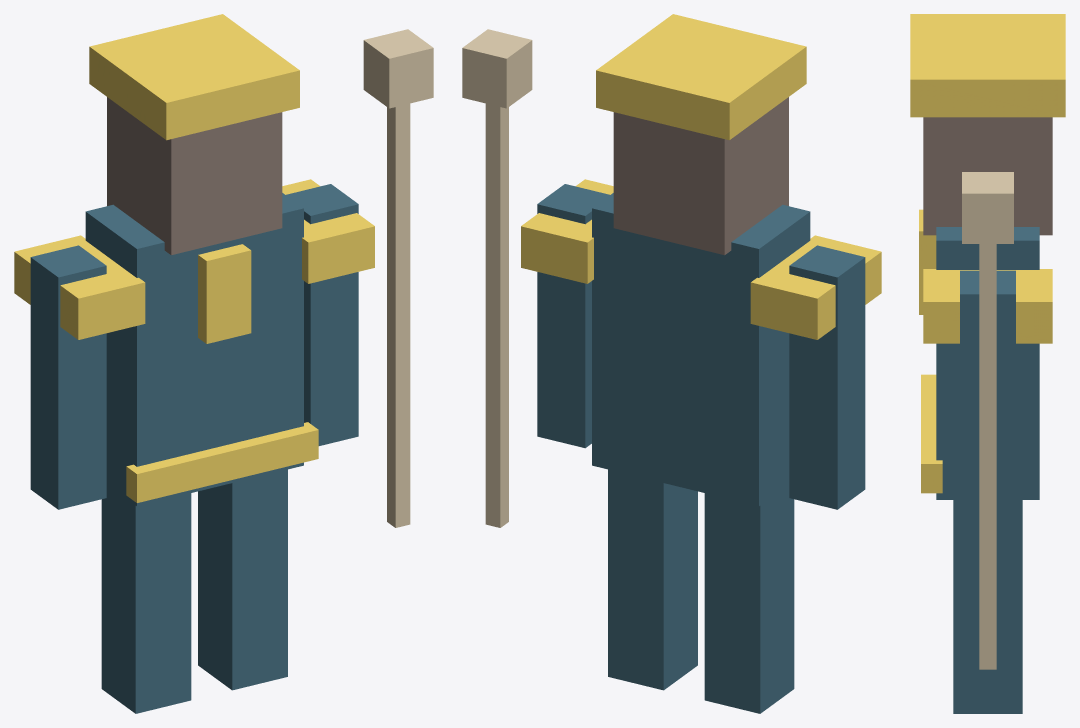
Rendered from 10_quill_gearmantle_archivist_of_arrival.glb.
The picture shows the model from 3 angles, left to right: view 1: azimuth 30°, elevation 25°; view 2: azimuth 150°, elevation 25°; view 3: azimuth 270°, elevation 25°; orthographic projection.
Visible parts, largest first — view 1: Quill Gearmantle, Archivist of Arrival; view 2: Quill Gearmantle, Archivist of Arrival; view 3: Quill Gearmantle, Archivist of Arrival.
Boxes of the visible parts, x1,y1,x2,y2 form: Quill Gearmantle, Archivist of Arrival: (14,14,433,713); Quill Gearmantle, Archivist of Arrival: (462,14,881,713); Quill Gearmantle, Archivist of Arrival: (910,14,1065,713).
Size of the model in its own units: 1.08 by 1.71 by 0.3828.
